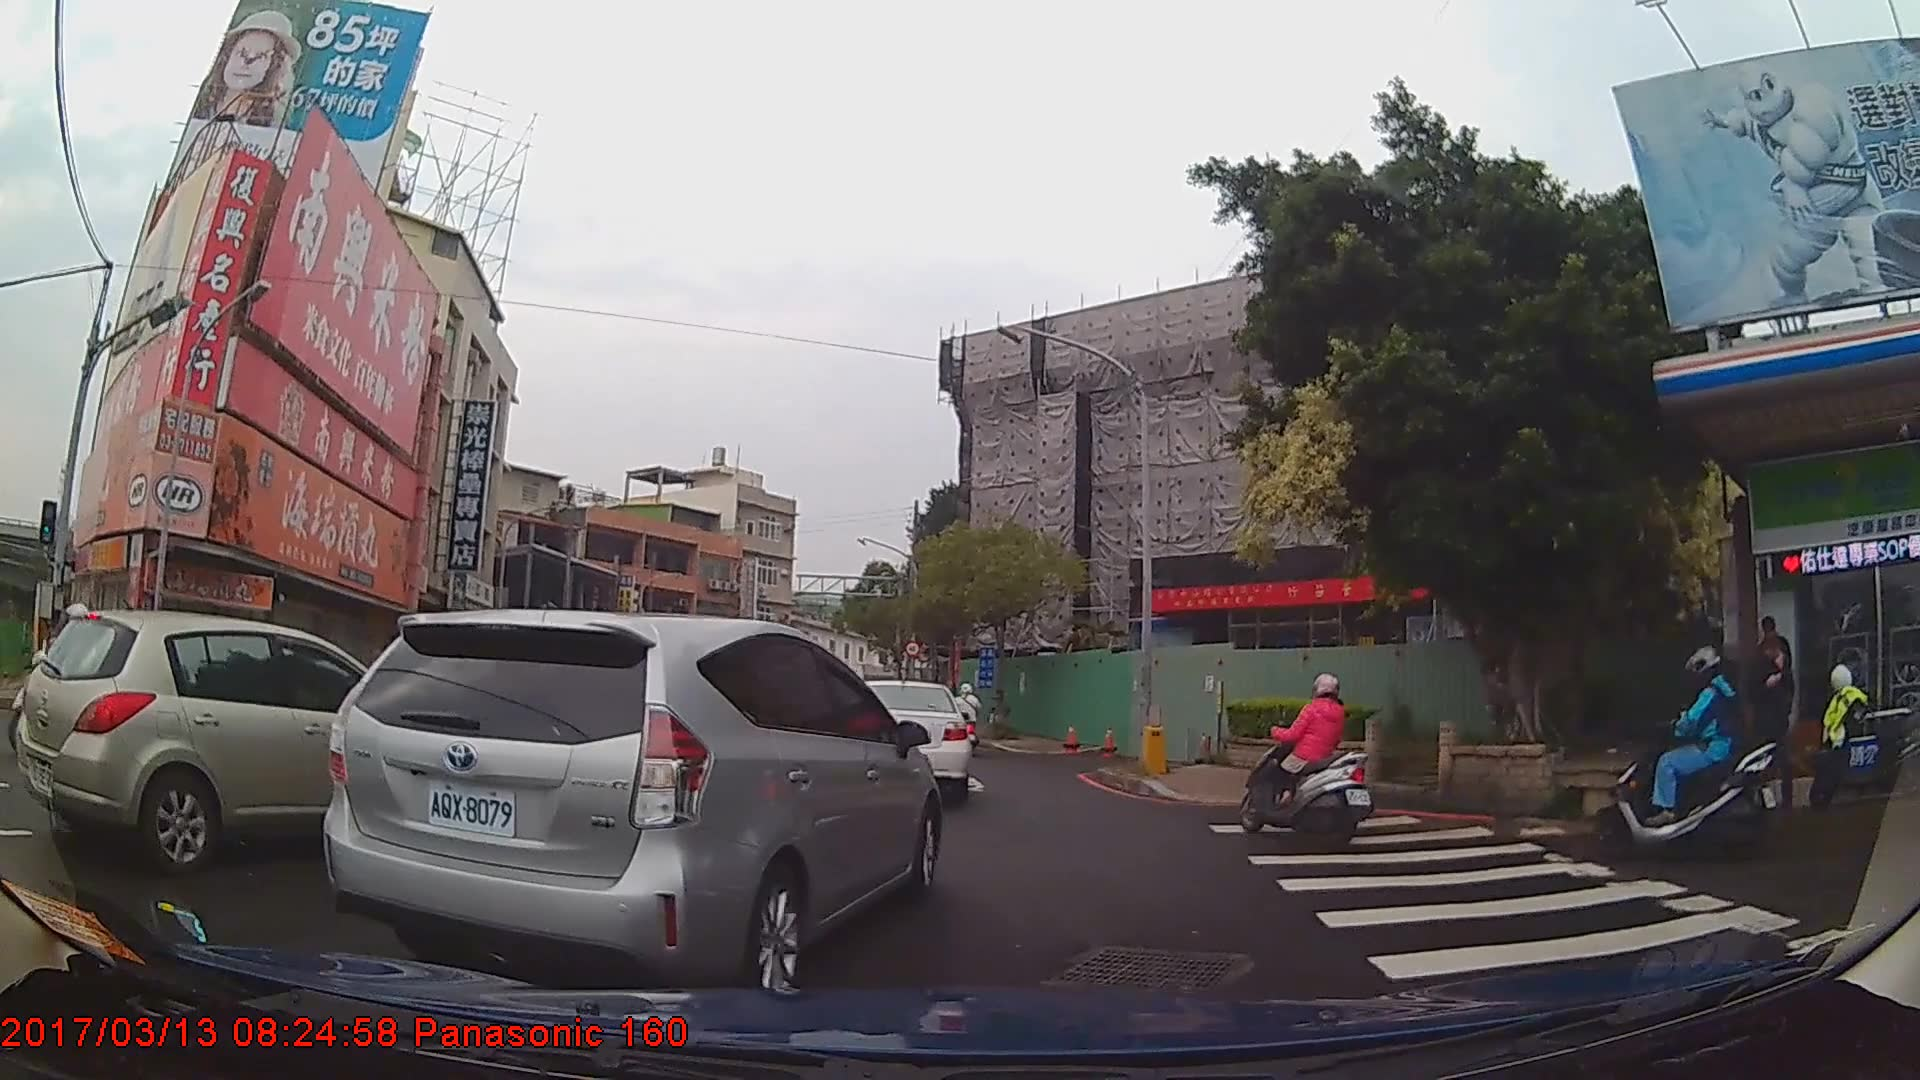pedestrian: (1745, 633, 1804, 815), (1753, 615, 1796, 748)
rider: (1591, 639, 1784, 853), (1240, 671, 1377, 847), (954, 684, 985, 754)
vehicle: (317, 602, 945, 1000), (15, 605, 444, 870), (843, 678, 972, 803)
